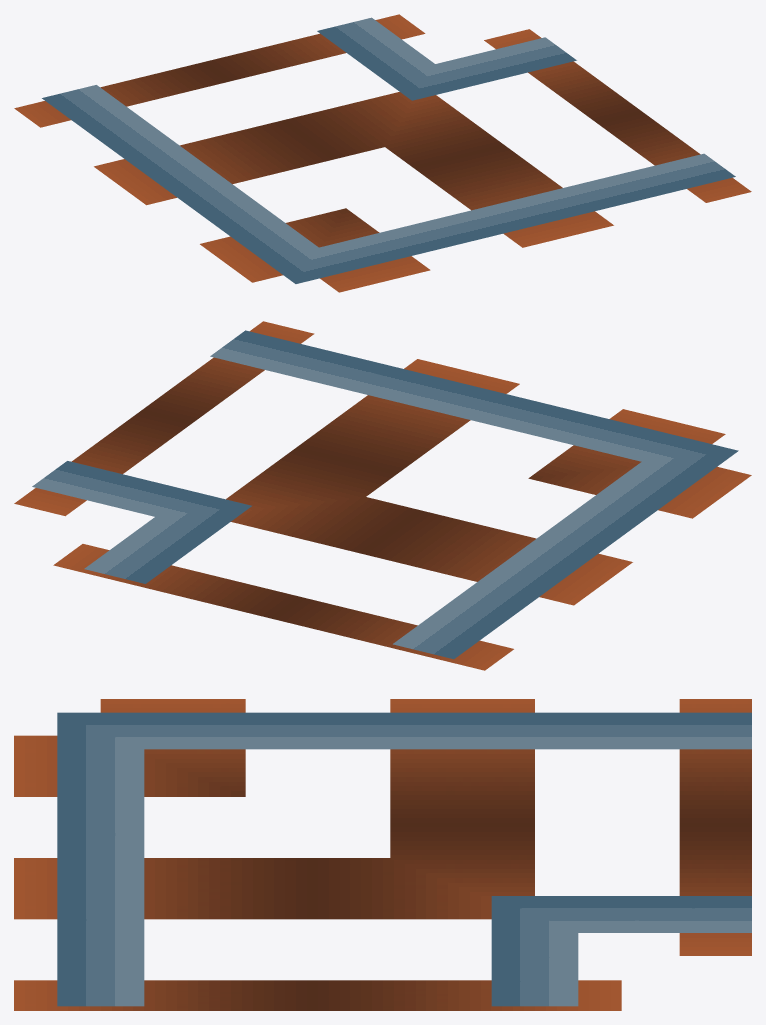
Rendered from train_skidmark_corner_left.FBX.
The picture shows the model from 3 angles, top to bottom: view 1: azimuth 30°, elevation 25°; view 2: azimuth 150°, elevation 25°; view 3: azimuth 270°, elevation 25°; orthographic projection. The views are drawn at different scales.
Parts seen in each view (by area): view 1: train_skidmark_corner_left; view 2: train_skidmark_corner_left; view 3: train_skidmark_corner_left.
Boxes of the visible parts, left/top/right/bottom form: train_skidmark_corner_left: left=14, top=14, right=751, bottom=292; train_skidmark_corner_left: left=14, top=321, right=751, bottom=670; train_skidmark_corner_left: left=14, top=699, right=751, bottom=1010.
Size of the model in its own units: 850 by 6 by 850.
